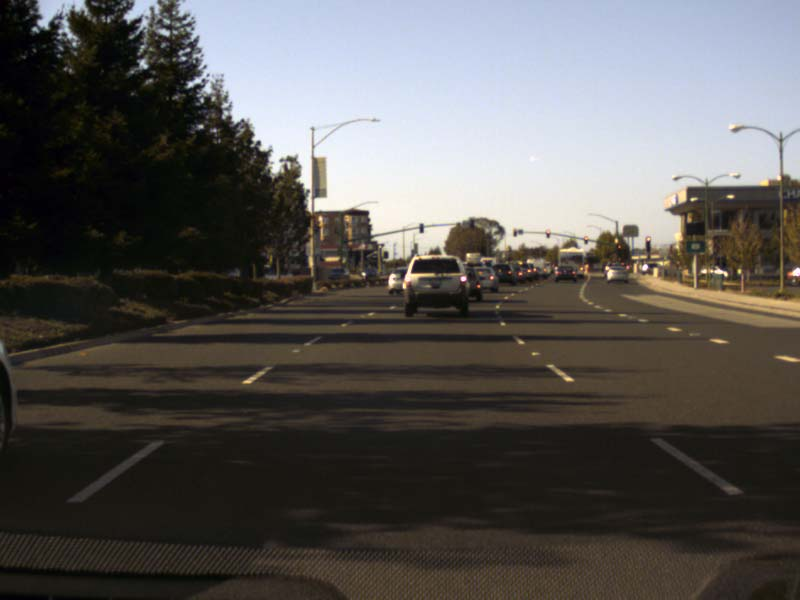Red: (645, 236, 650, 252), (616, 243, 621, 256), (545, 229, 550, 238), (583, 235, 588, 244), (512, 228, 517, 236)
